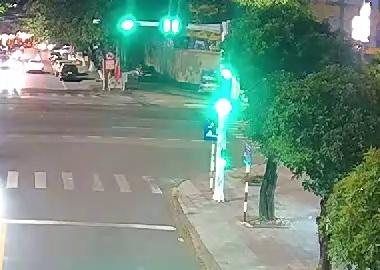green_light: (213, 63, 239, 117), (159, 15, 182, 38), (116, 15, 138, 35)
stop_line: (2, 215, 179, 232)
